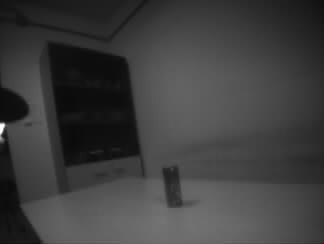Tin can: (161, 165, 183, 209)
